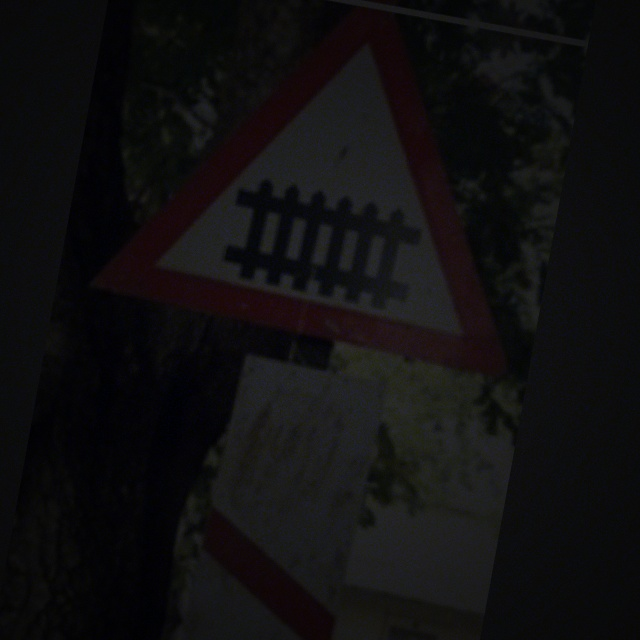Guarded_Level_Crossing: (109, 1, 544, 364)
